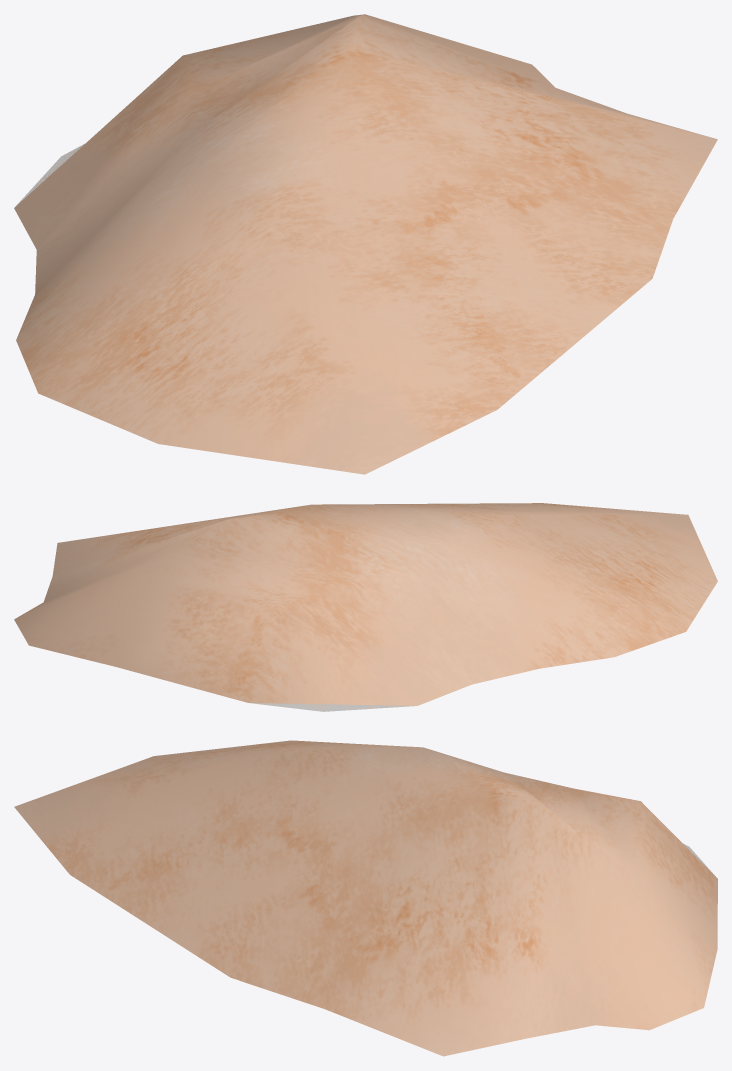
File: Beach-02.FBX
3 views of the same model, one above another, from view 1: azimuth 30°, elevation 25°; view 2: azimuth 150°, elevation 25°; view 3: azimuth 270°, elevation 25° (orthographic). The views are drawn at different scales.
Visible parts, largest first — view 1: Box004; view 2: Box004; view 3: Box004.
Part boxes in pixels (x1,y1,x2,y2): Box004: (14,14,717,474); Box004: (14,503,717,711); Box004: (14,740,717,1056).
Bounding box in the file's own units: 6.22 × 1.17 × 5.86.
